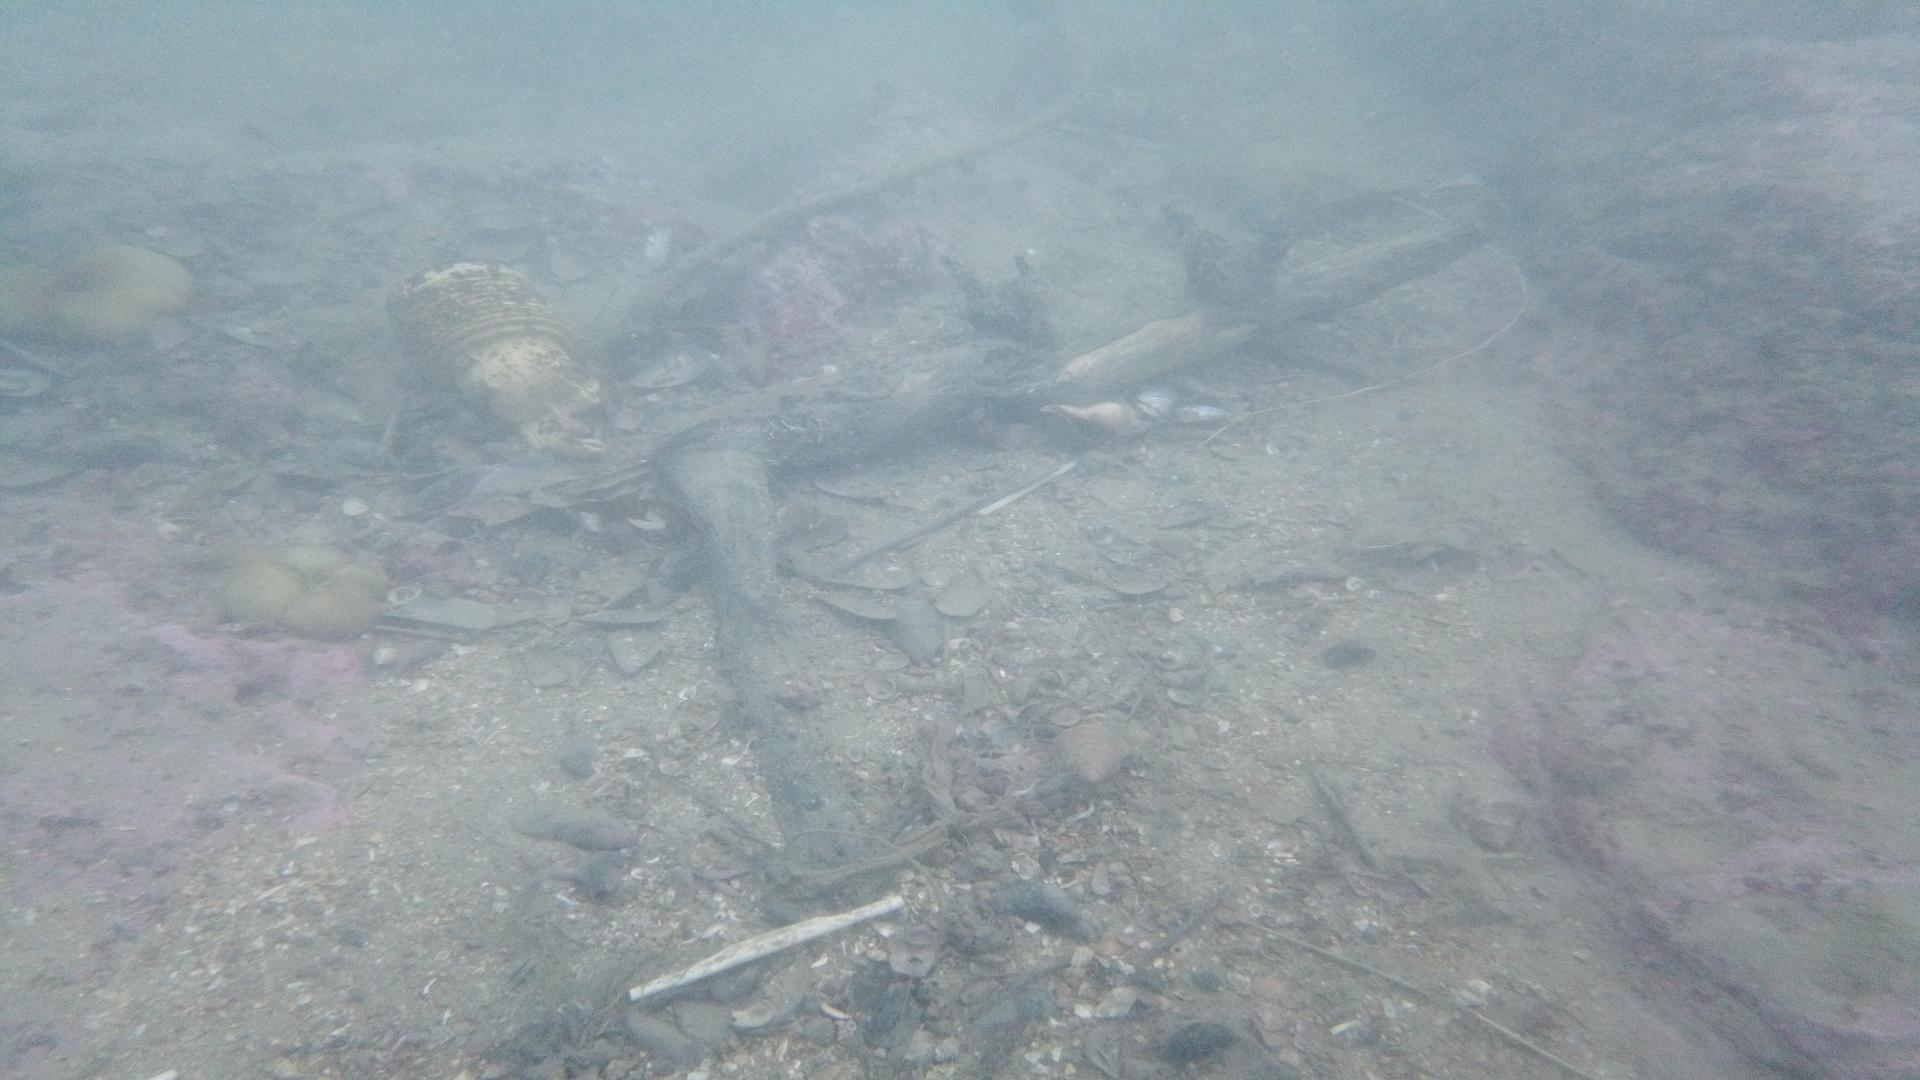rope: (588, 100, 1062, 344)
wood: (655, 218, 1491, 862)
